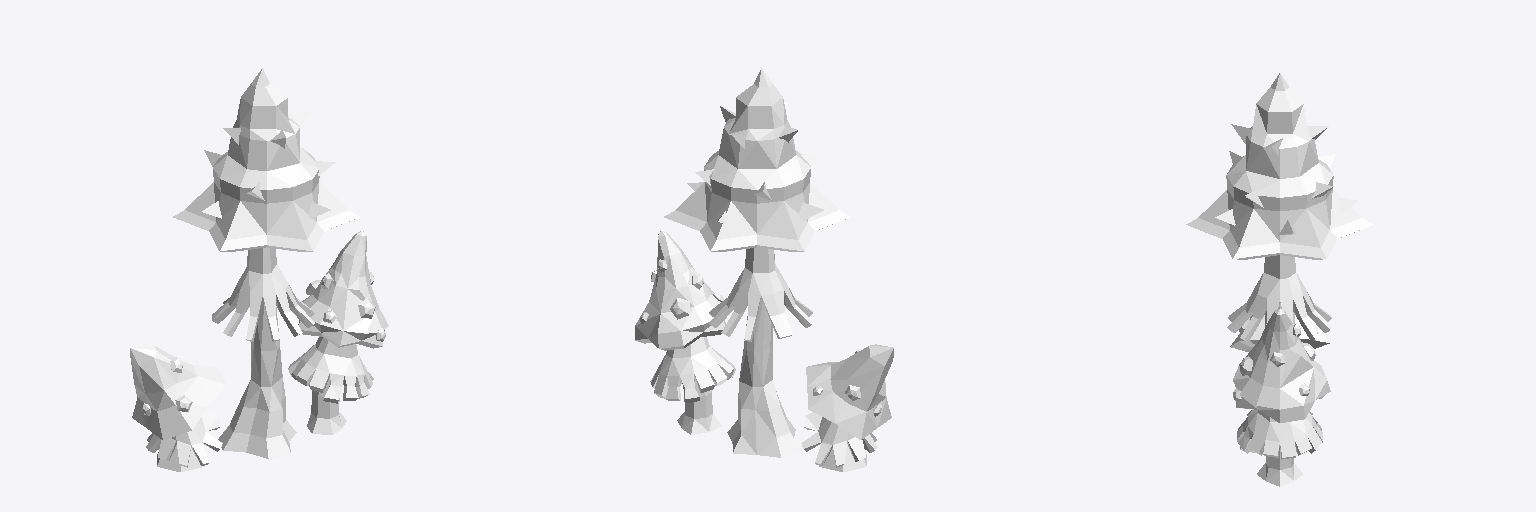
File: mushroom_01.obj
3 renders of one model, left to right at view 1: azimuth 30°, elevation 25°; view 2: azimuth 150°, elevation 25°; view 3: azimuth 270°, elevation 25°, orthographic.
Bounding box in the file's own units: 0.7849 × 1.11 × 0.5066.